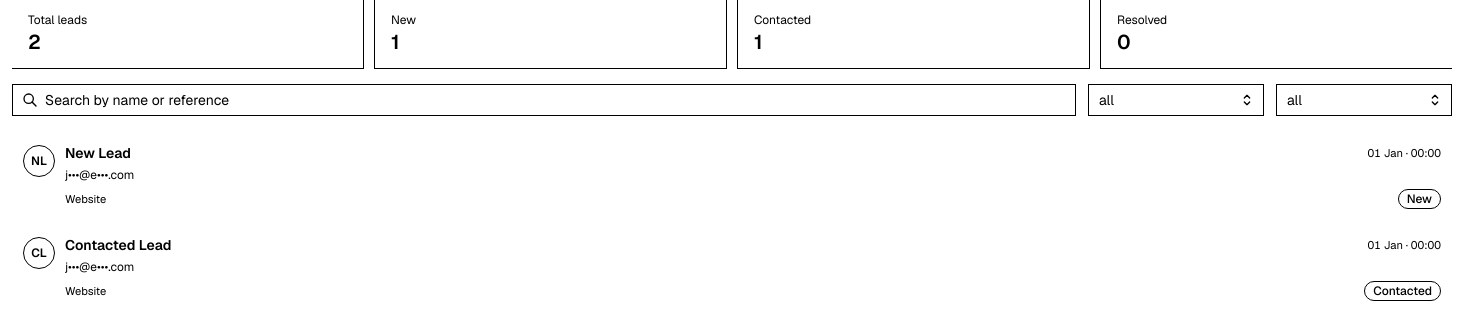
Test: LeadsView — search and filters › the status filter shows only leads with the selected status
Expected: the text "New Lead" is shown, [65,143,131,163]
Step 1. Click the dropdown named "Filter by status" → (1176, 100), box [1088,84,1264,116]
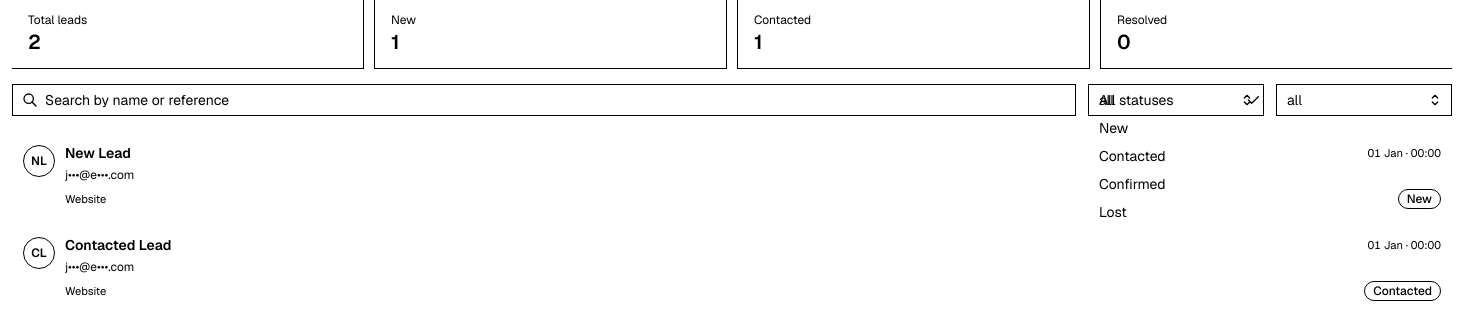
Step 2. Click the option "Contacted" → (1132, 156), box [1099,147,1166,165]
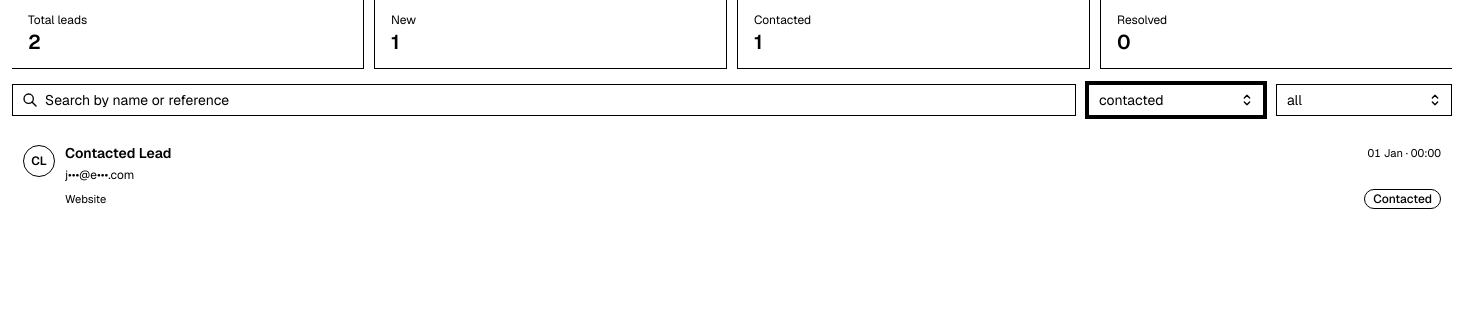
Expected: the text "Contacted Lead" is shown, [65,143,171,163]
Expected: the button "New Lead" is gone
